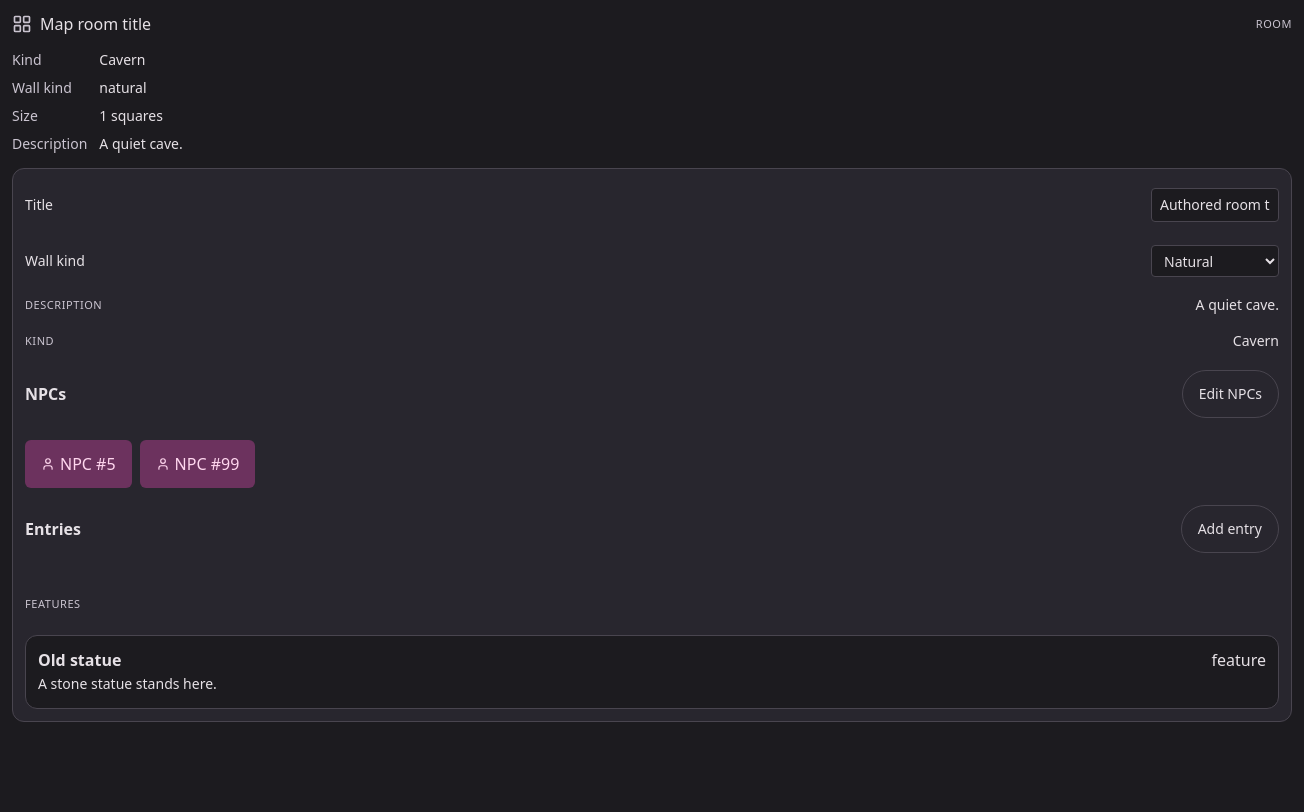
RoomContentEditor › updates NPC assignment immediately and preserves selected IDs absent from the roster
Step 1. Click the button "Edit NPCs" → (1230, 394), box [1182, 370, 1279, 418]
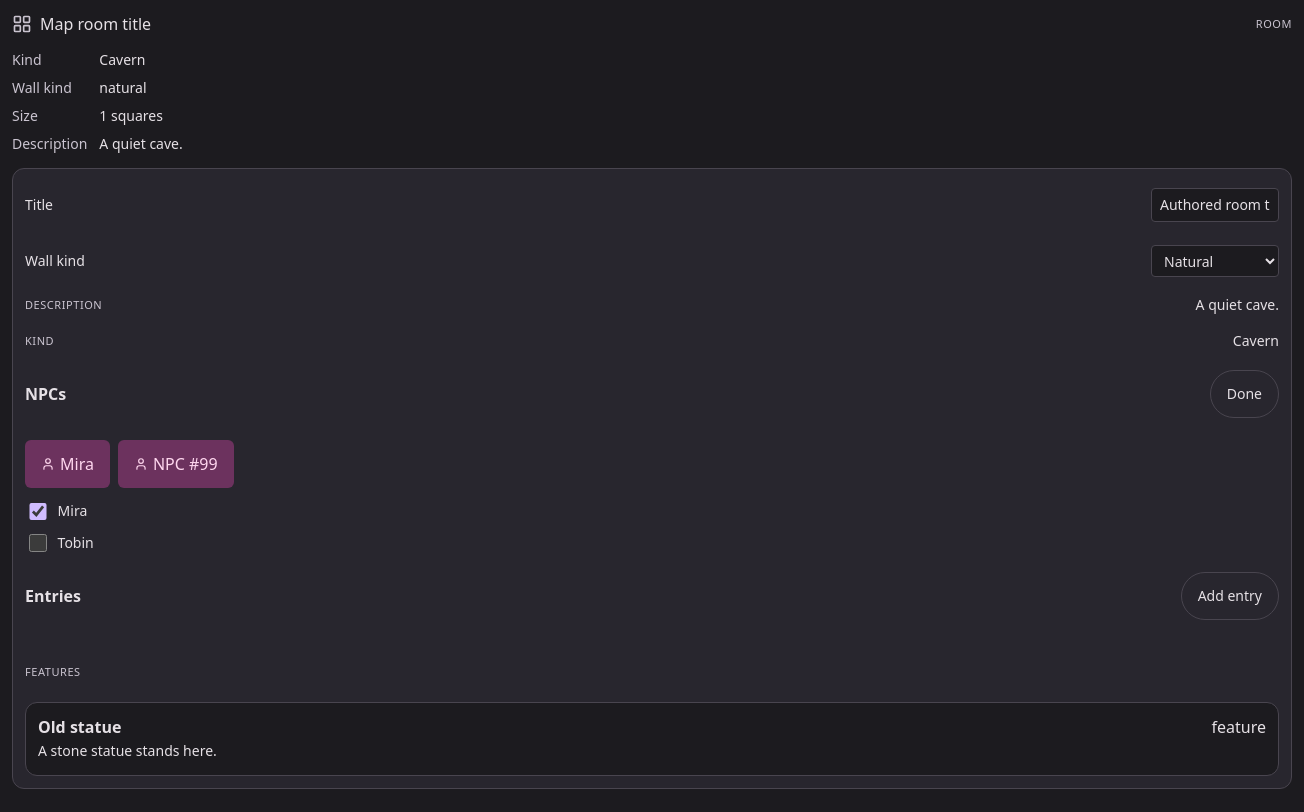
Expected: the element named "Edit NPCs" is shown, [29, 501, 94, 552]
Expected: the checkbox labelled "Tobin" is not checked
Expected: the checkbox labelled "Mira" is checked, [29, 502, 47, 520]
Step 2. Click the checkbox labelled "Tobin" → (38, 543), box [29, 534, 47, 552]
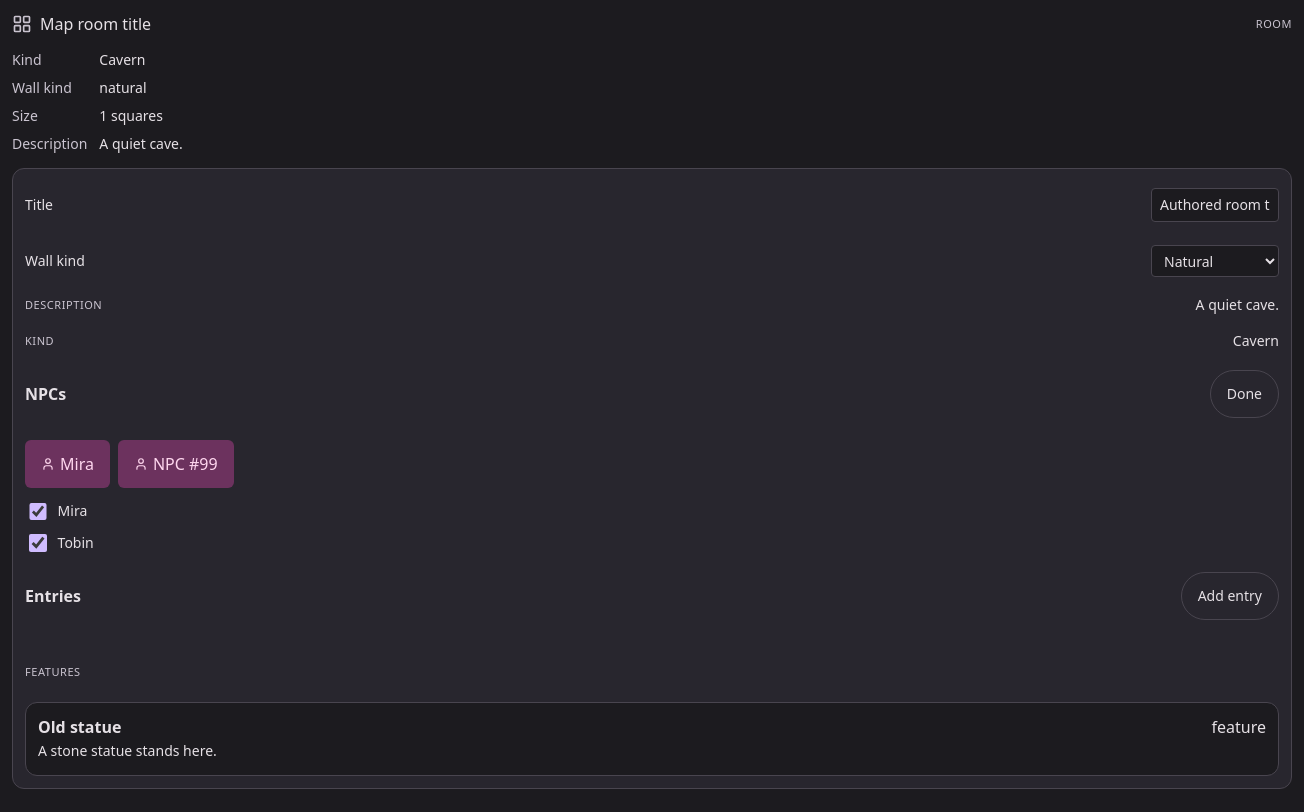
Expected: the checkbox labelled "Tobin" is checked, [29, 534, 47, 552]
Step 3. Click the checkbox labelled "Mira" → (38, 511), box [29, 502, 47, 520]
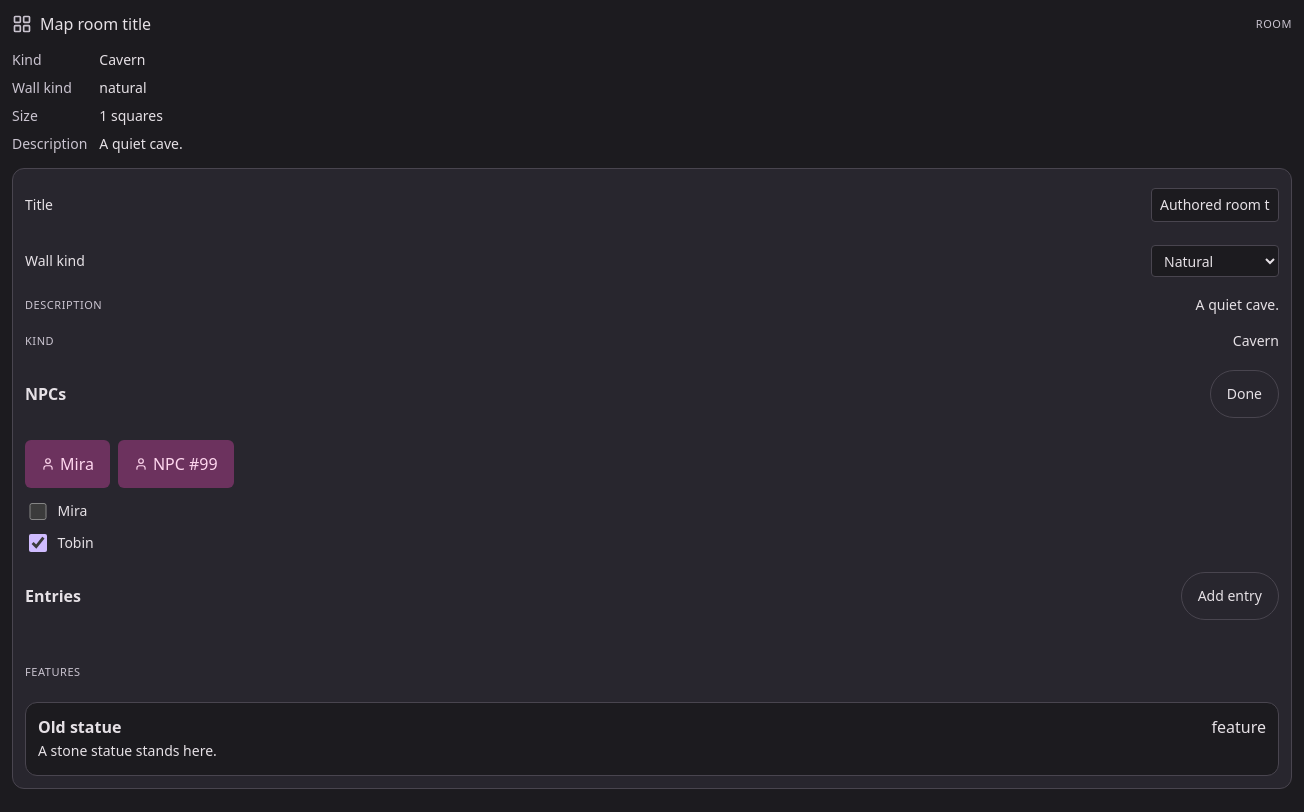
Expected: the checkbox labelled "Mira" is not checked, [29, 502, 47, 520]
Step 4. Click the button "Done" → (1244, 394), box [1210, 370, 1279, 418]
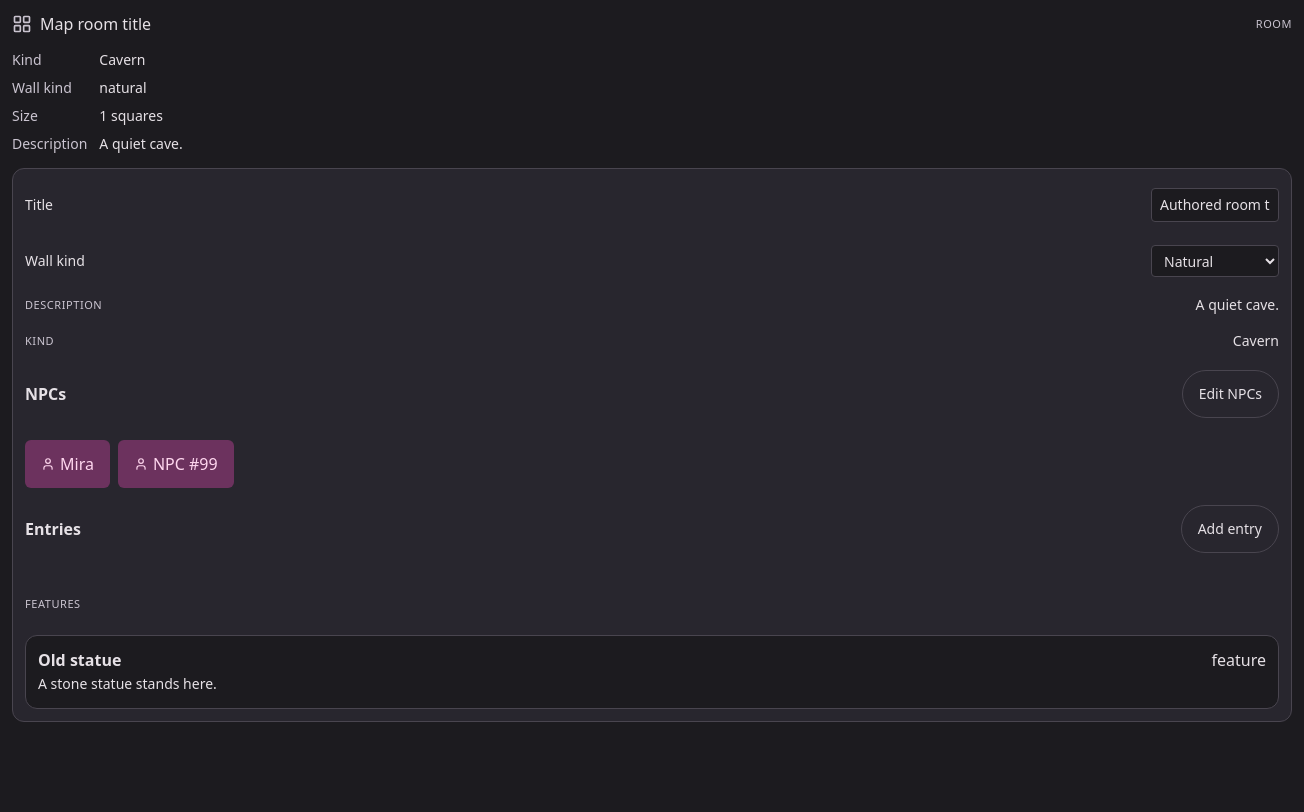
Expected: the button "Edit NPCs" is shown, [1182, 370, 1279, 418]
